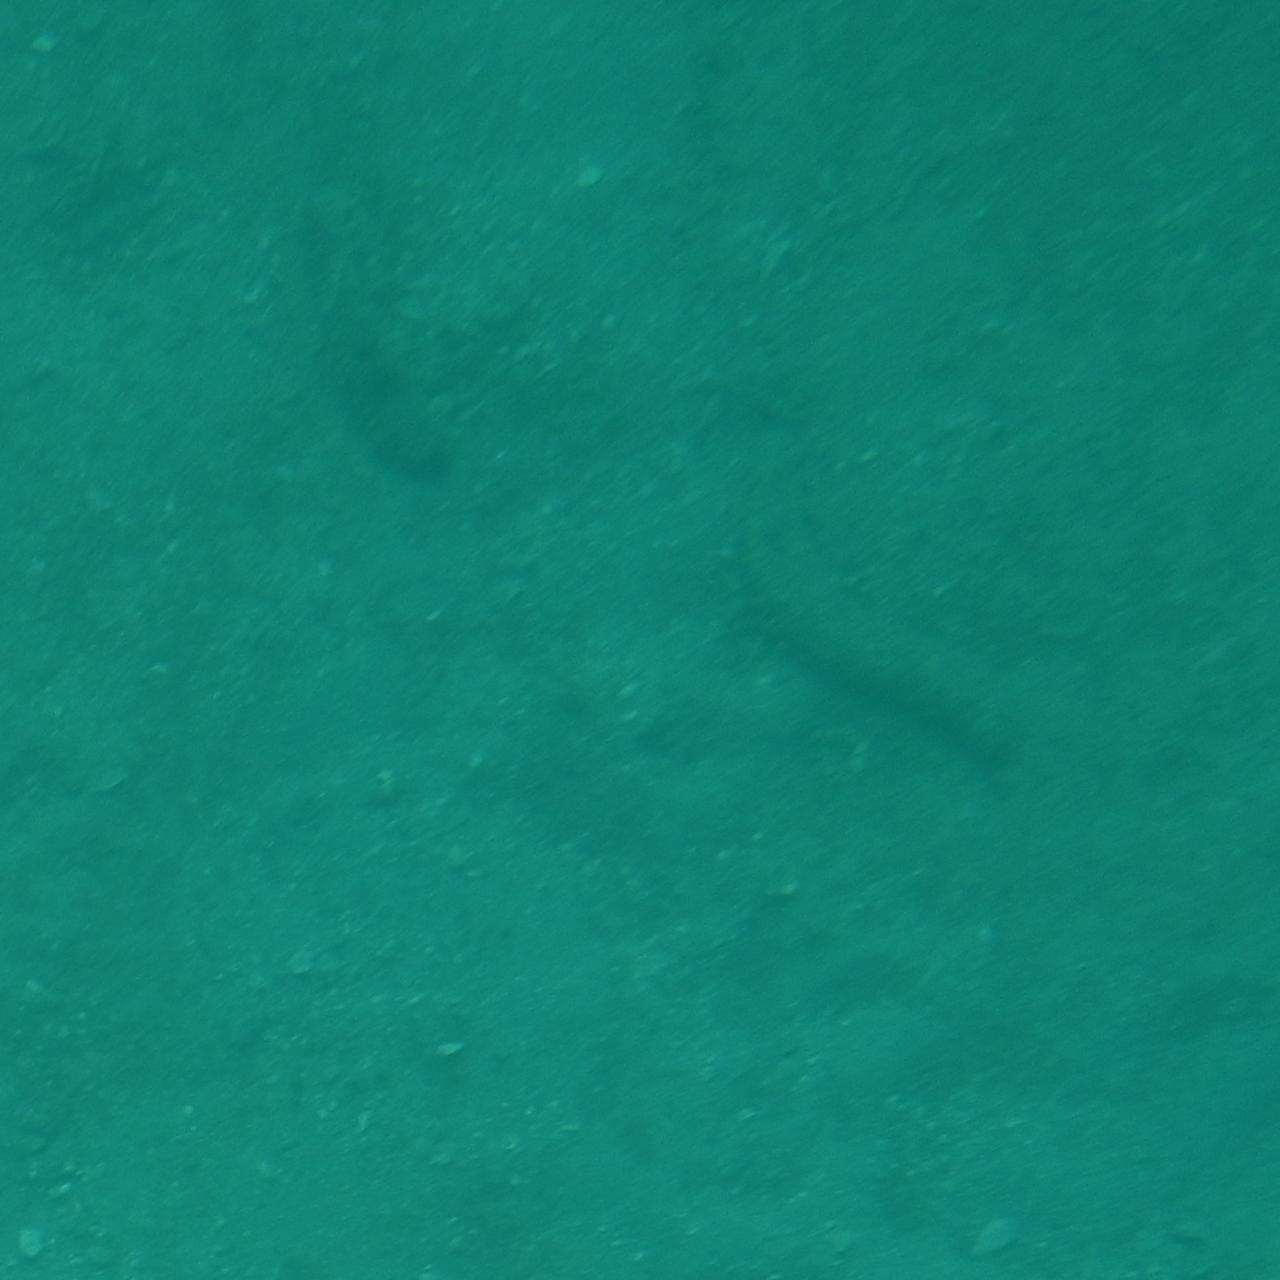Holothuria tubulosa: (740, 423, 1070, 765), (277, 204, 475, 481)
